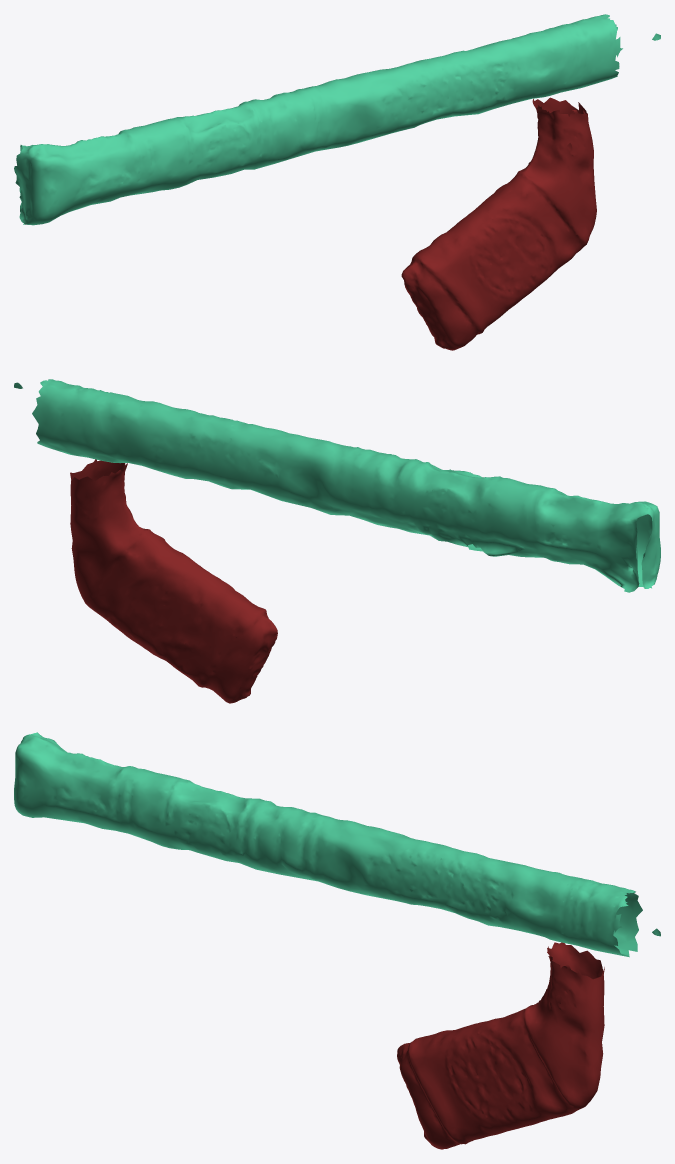
Rendered from object_deformed_0.obj.
3 views of the same model, one above another, from view 1: azimuth 30°, elevation 25°; view 2: azimuth 150°, elevation 25°; view 3: azimuth 330°, elevation 25° (orthographic). The views are drawn at different scales.
Size of the model in its own units: 0.4401 by 0.198 by 0.0425.
